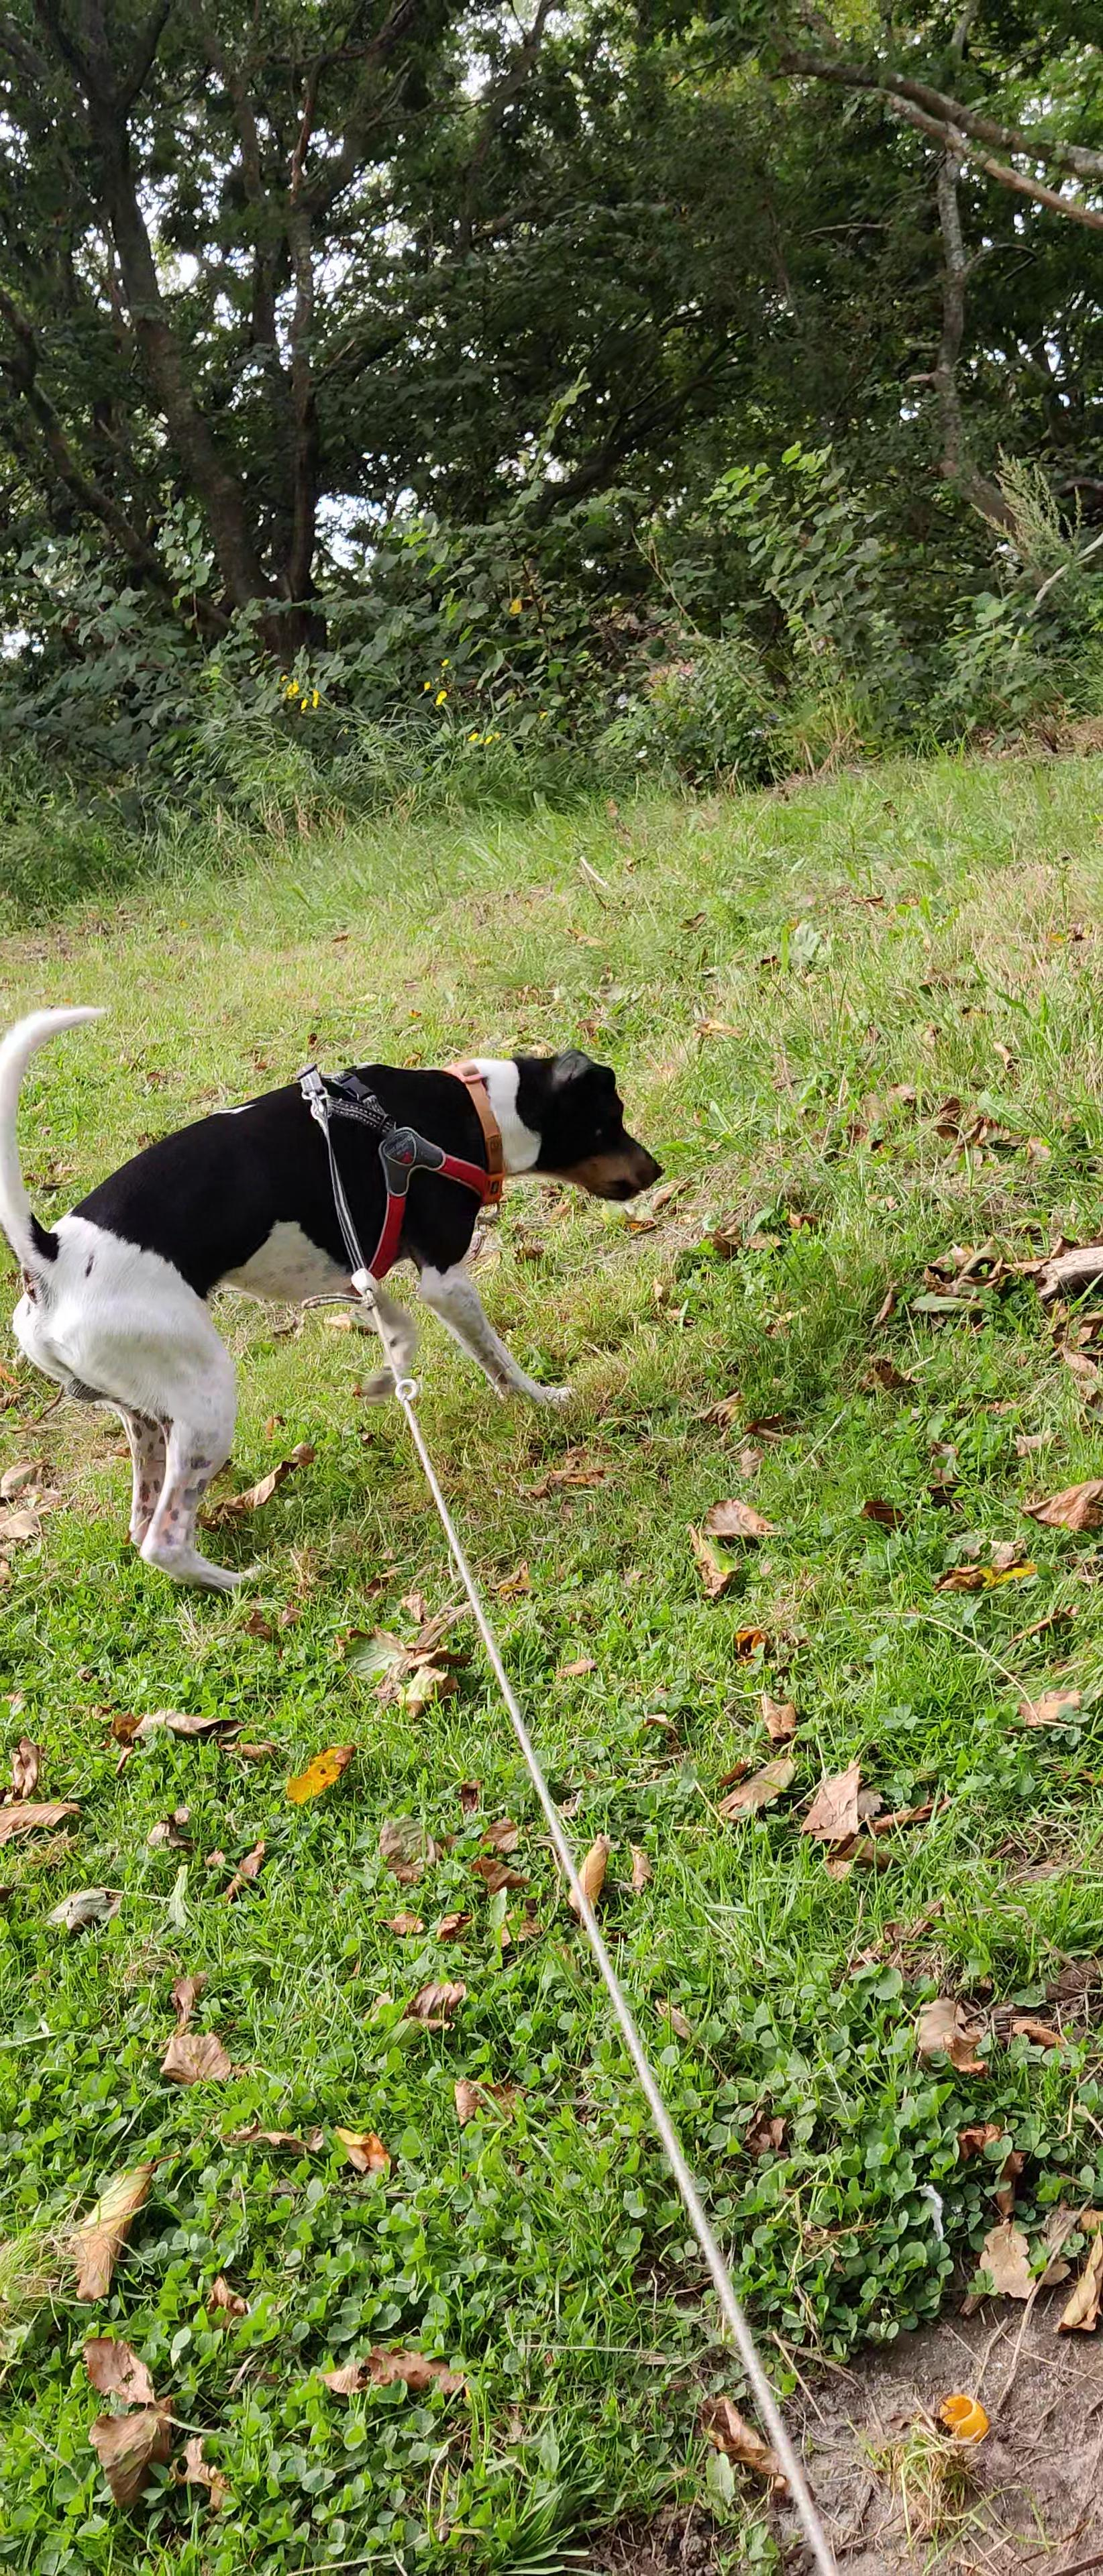Dog: (0, 1002, 667, 1598)
